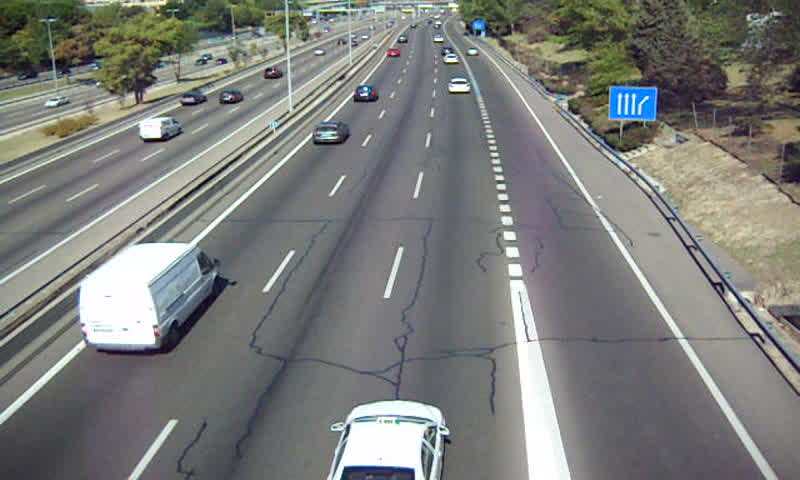car: (325, 401, 444, 480), (311, 122, 350, 146), (353, 84, 378, 103), (446, 77, 472, 94), (442, 53, 463, 66), (386, 47, 404, 58)
van: (79, 243, 219, 352)
